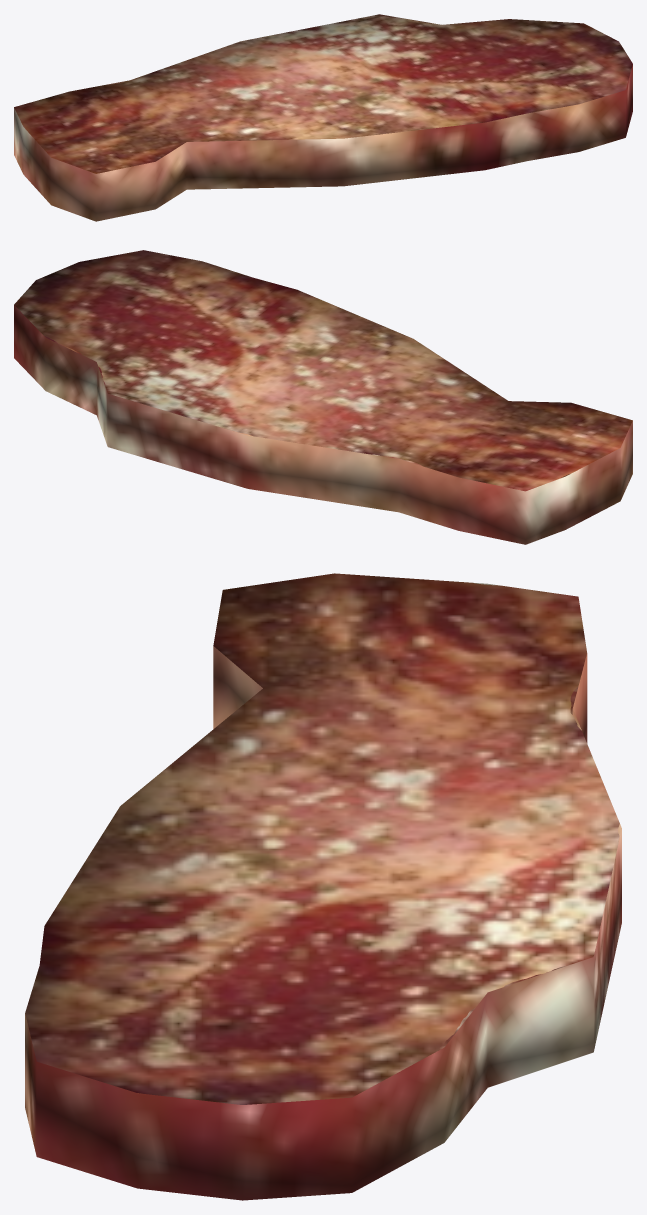
The model's file is rotten_meat_3.FBX.
3 views of the same model, one above another, from view 1: azimuth 30°, elevation 25°; view 2: azimuth 150°, elevation 25°; view 3: azimuth 270°, elevation 25° (orthographic). The views are drawn at different scales.
Visible parts, largest first — view 1: rotten_meat_3; view 2: rotten_meat_3; view 3: rotten_meat_3.
Part boxes in pixels (box(x1,y1,x2,y2)): rotten_meat_3: box(14, 14, 632, 221); rotten_meat_3: box(14, 250, 632, 544); rotten_meat_3: box(25, 573, 621, 1200).
Bounding box in the file's own units: 43.13 × 3.61 × 20.45.
